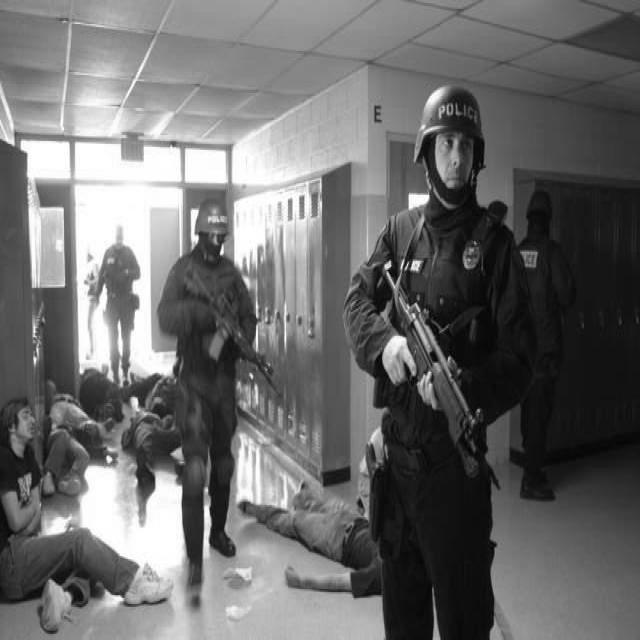gun: (372, 258, 488, 478), (180, 261, 285, 404)
